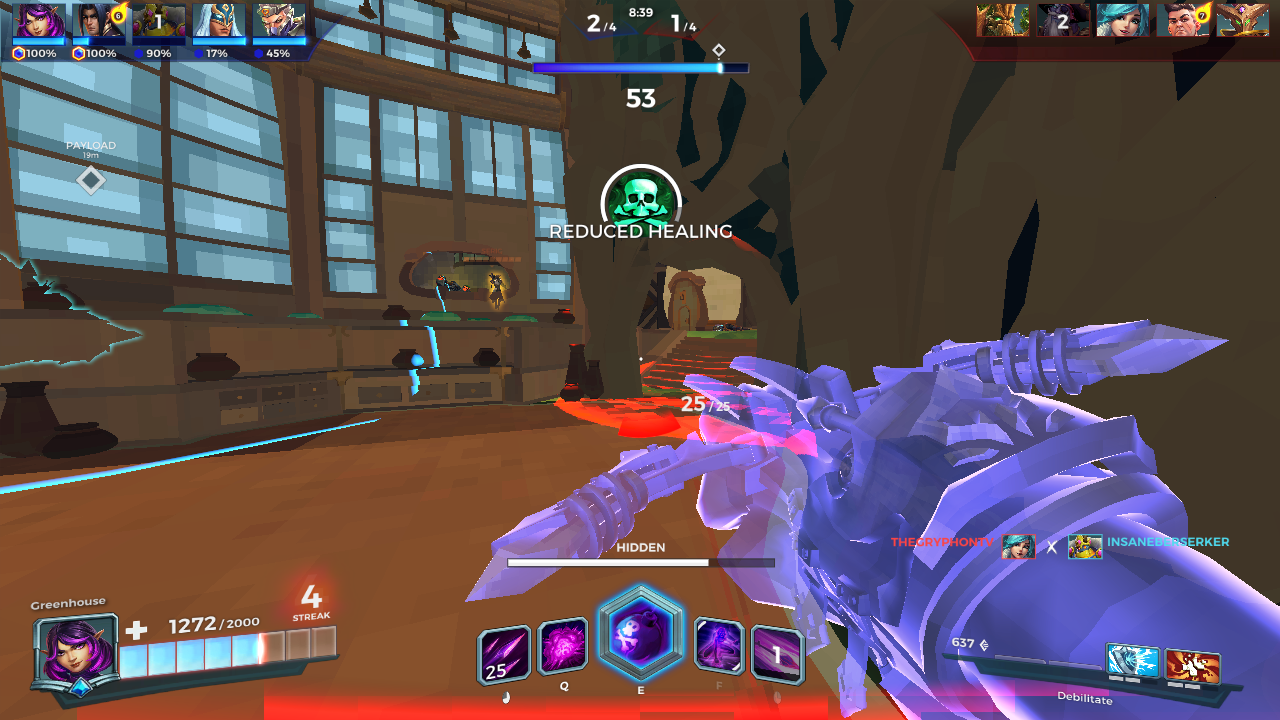model: (486, 267, 508, 310)
